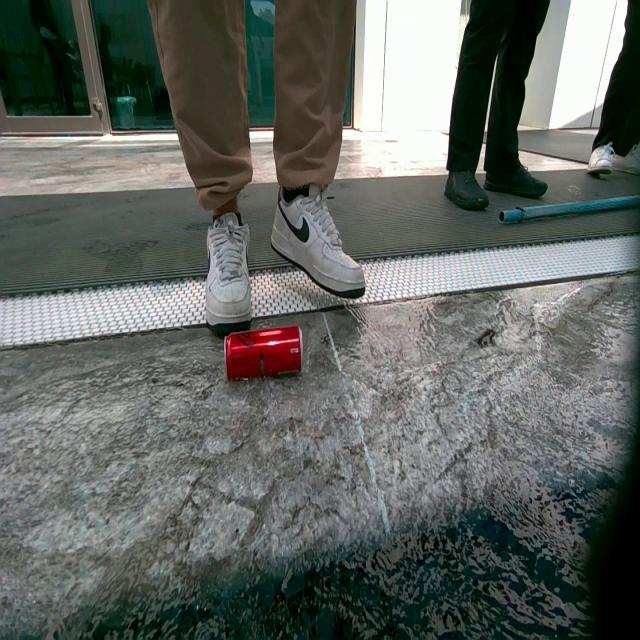Cans: (228, 329, 305, 385)
